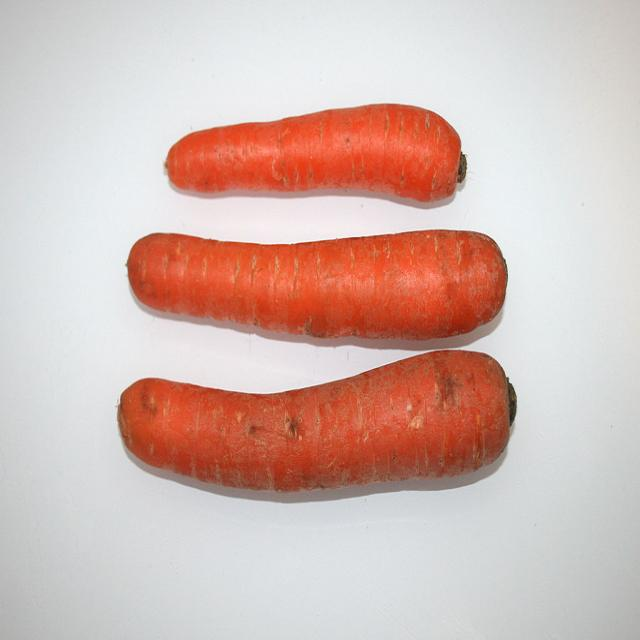Carrot: (110, 348, 520, 504), (122, 226, 508, 346), (165, 103, 471, 210)
